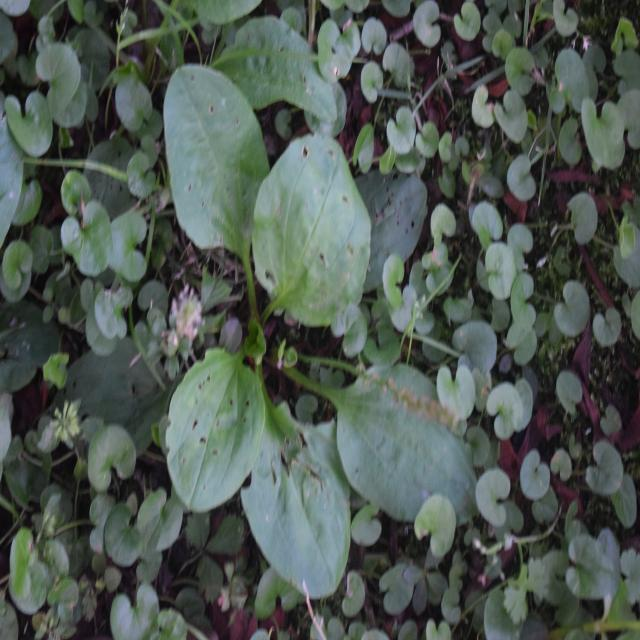plantain: (154, 75, 450, 573)
